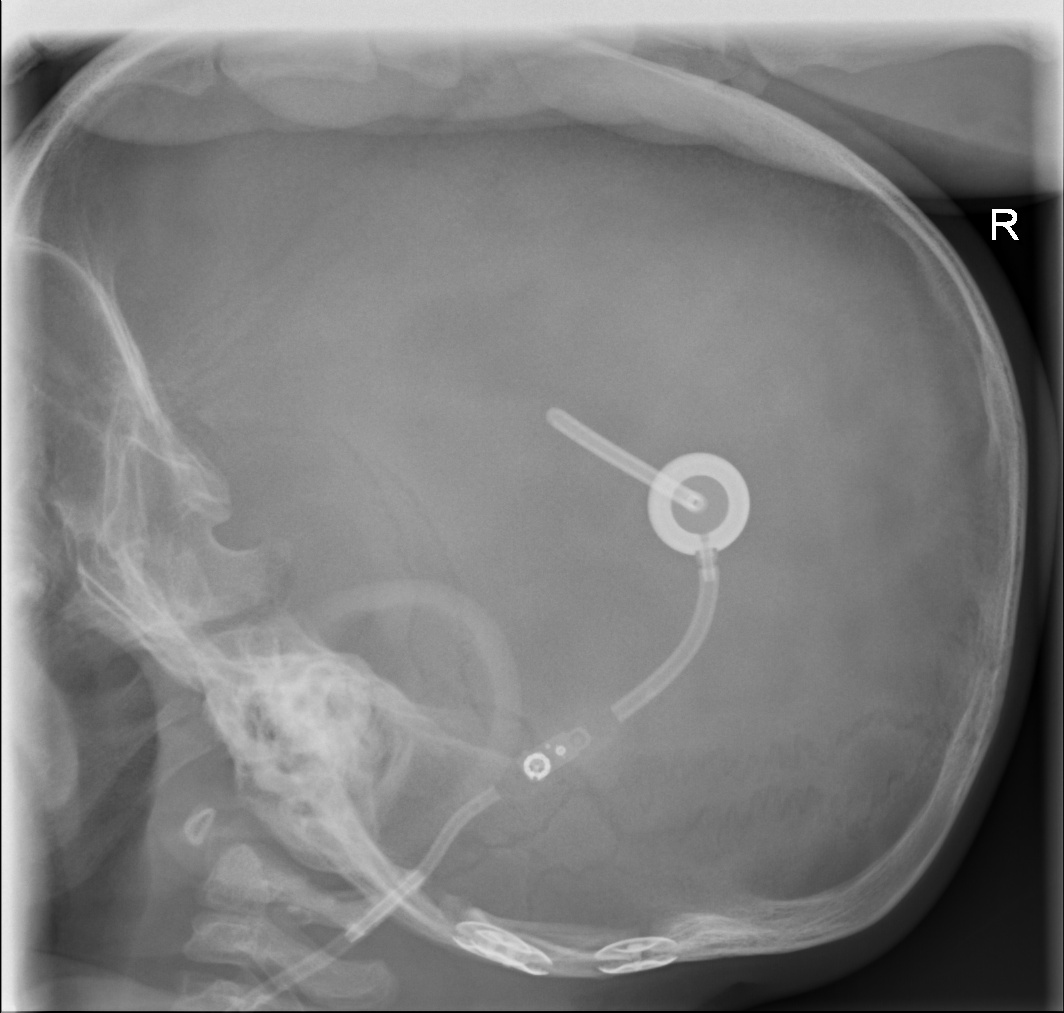Codman Hakim: (504, 718, 601, 788)
